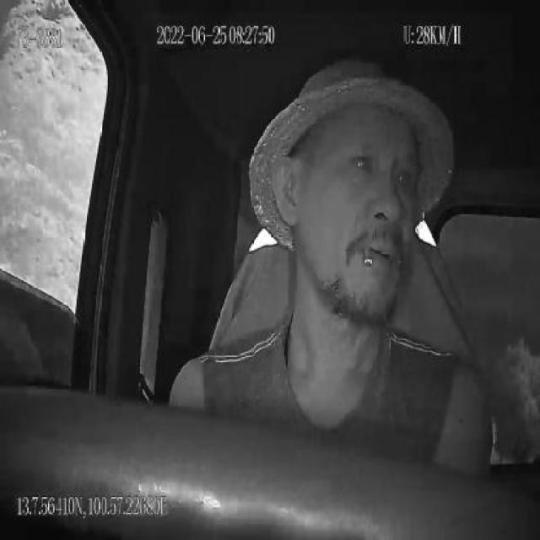smoking: (362, 242, 374, 270)
